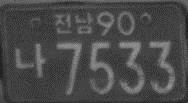0: (116, 11, 136, 36)
3: (147, 39, 176, 95), (117, 40, 146, 95)
5: (87, 41, 114, 96)
7: (55, 41, 83, 95)
9: (97, 11, 114, 37)
나: (13, 42, 47, 80)
전남_O: (54, 12, 94, 36)
